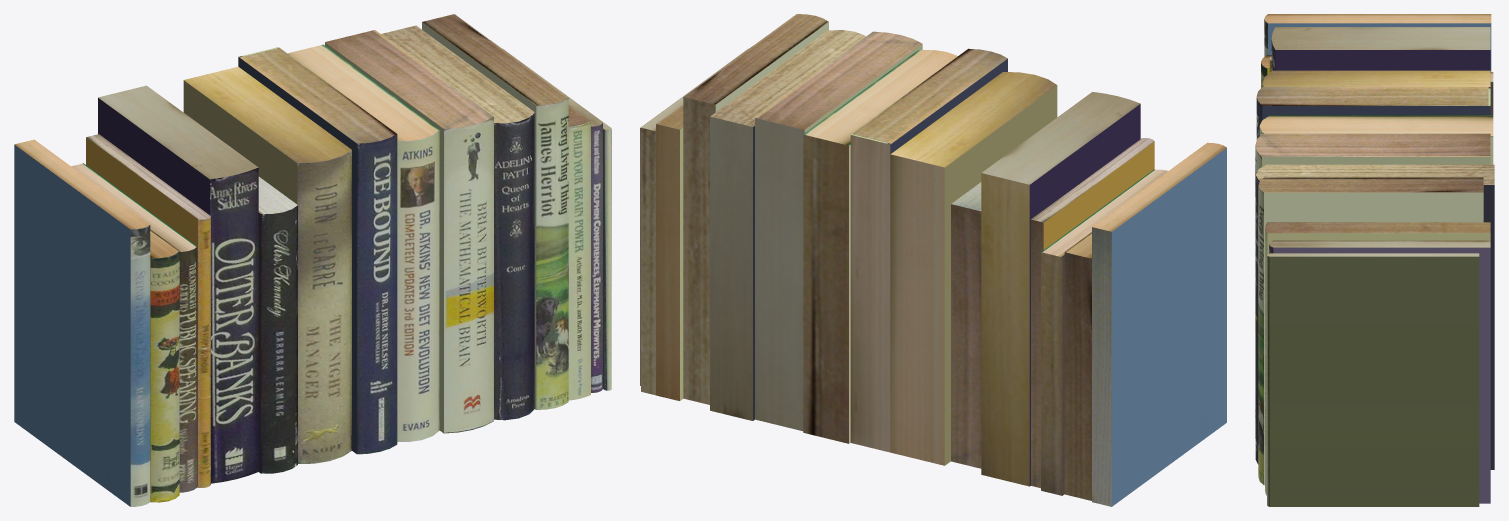
File: books-vertical-3.glb
The picture shows the model from 3 angles, left to right: view 1: azimuth 30°, elevation 25°; view 2: azimuth 150°, elevation 25°; view 3: azimuth 270°, elevation 25°; orthographic projection. The views are drawn at different scales.
Parts seen in each view (by area): view 1: books-3; view 2: books-3; view 3: books-3.
Boxes of the visible parts, bbox=[...] form: books-3: bbox=[14, 14, 611, 506]; books-3: bbox=[640, 14, 1226, 506]; books-3: bbox=[1255, 14, 1494, 506].
Size of the model in its own units: 35.95 by 22.14 by 16.08.
37 materials, 37 textured.
